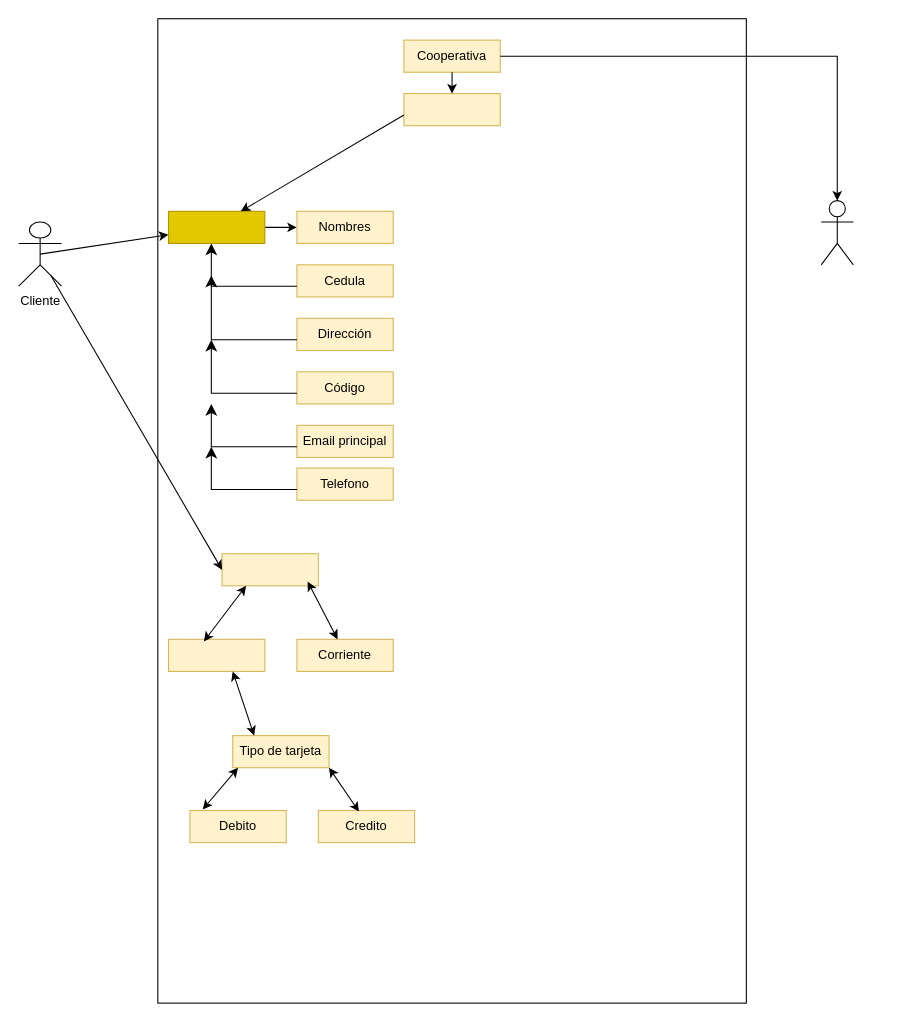
This 919x1022 diagram has some shape labels left out. Here are the shapes that lost their labels. From the top down, the centre of each, then its label:
point (451, 109): Recolección de datos
point (216, 226): Datos personales
point (836, 232): Cooperativa de ahorro y crédito
point (269, 569): Tipo de cuenta
point (216, 654): Ahorro
